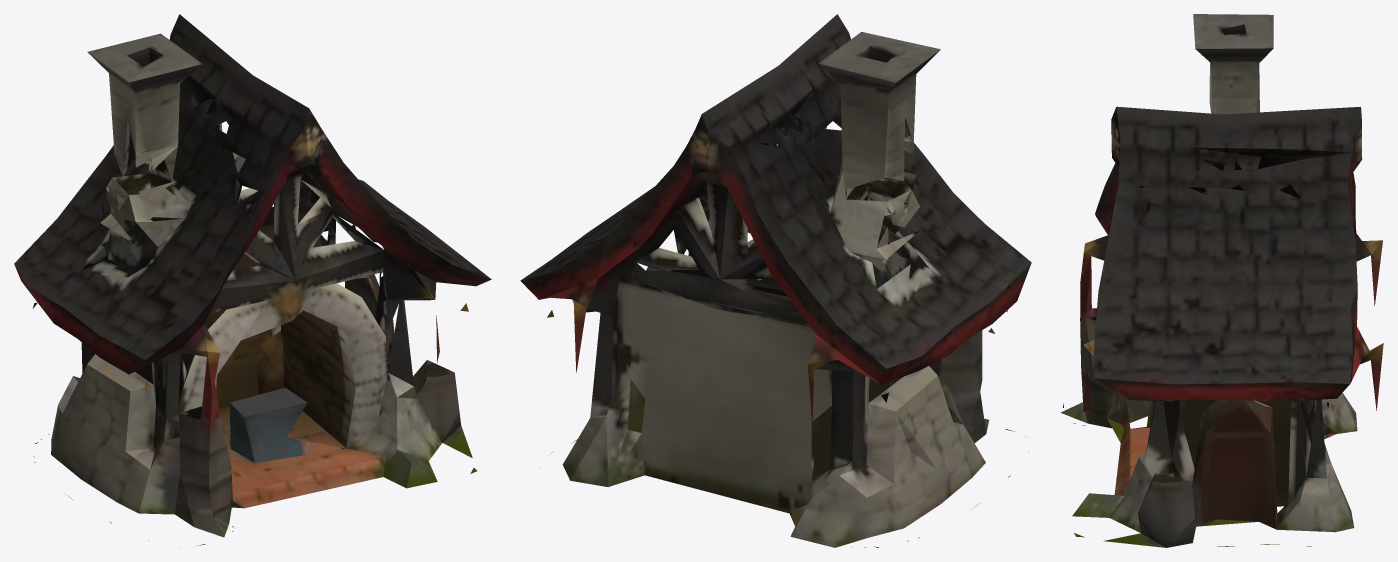
The model's file is town_smithy_lod.glb.
The picture shows the model from 3 angles, left to right: view 1: azimuth 30°, elevation 25°; view 2: azimuth 150°, elevation 25°; view 3: azimuth 270°, elevation 25°; orthographic projection. The views are drawn at different scales.
Visible parts, largest first — view 1: town_smithy; view 2: town_smithy; view 3: town_smithy.
Boxes of the visible parts, <box> form: town_smithy: <box>14,14,491,545</box>; town_smithy: <box>520,14,1031,547</box>; town_smithy: <box>1060,14,1383,547</box>.
Bounding box in the file's own units: 5.41 × 5.95 × 4.4.
1 material, 1 textured.
